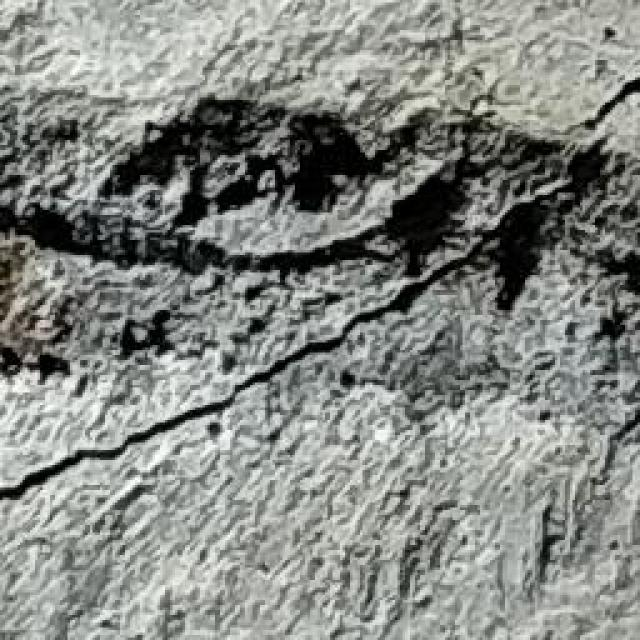Diagonal: (0, 74, 638, 499)
Rippled: (0, 88, 640, 378)
